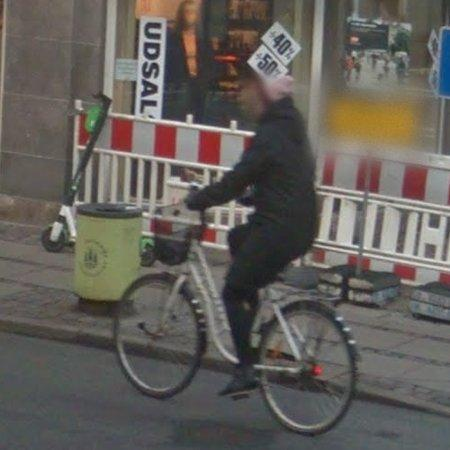bicycles: (114, 241, 239, 400), (254, 286, 358, 436)
